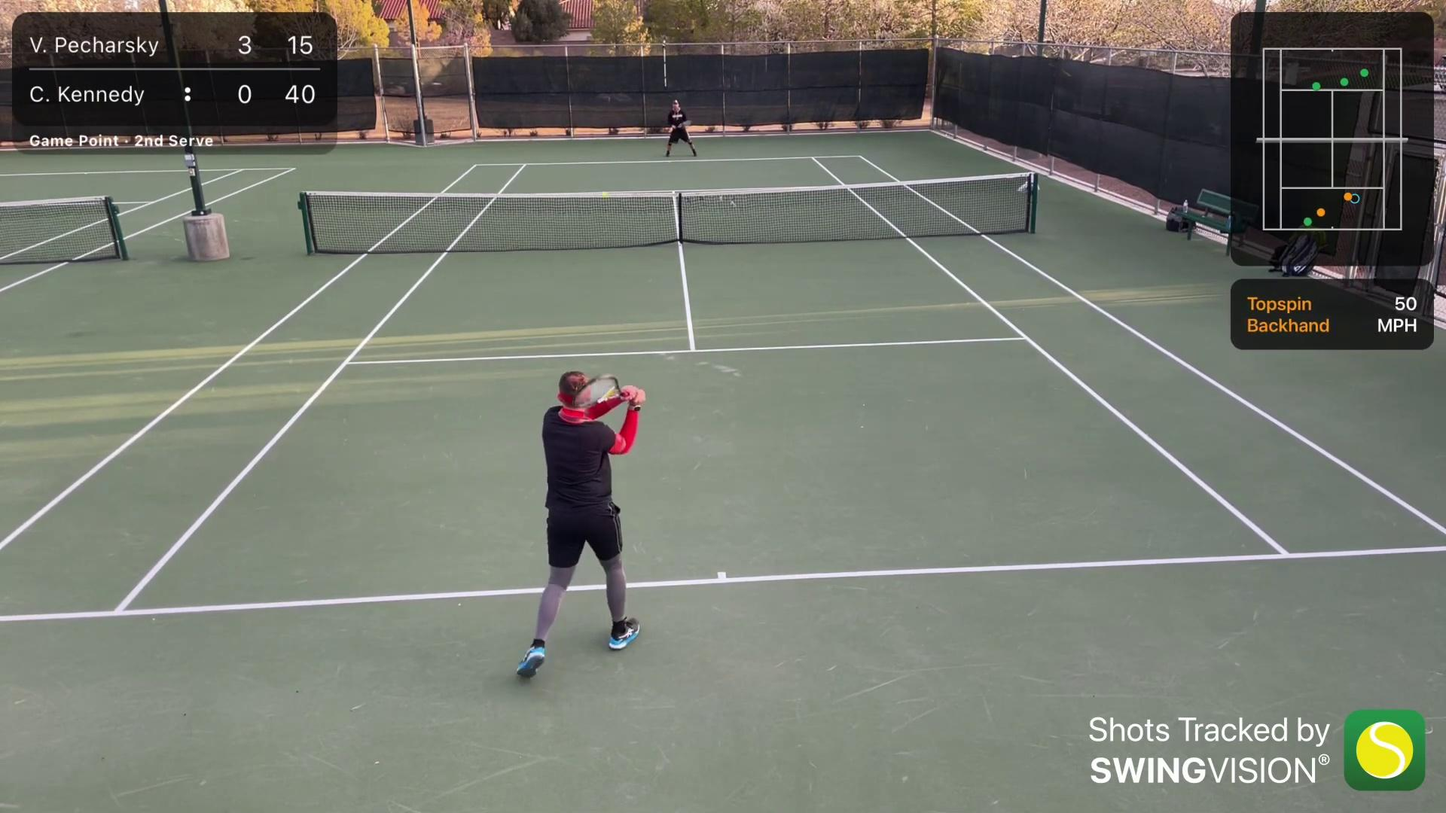ball: (599, 191, 612, 198)
